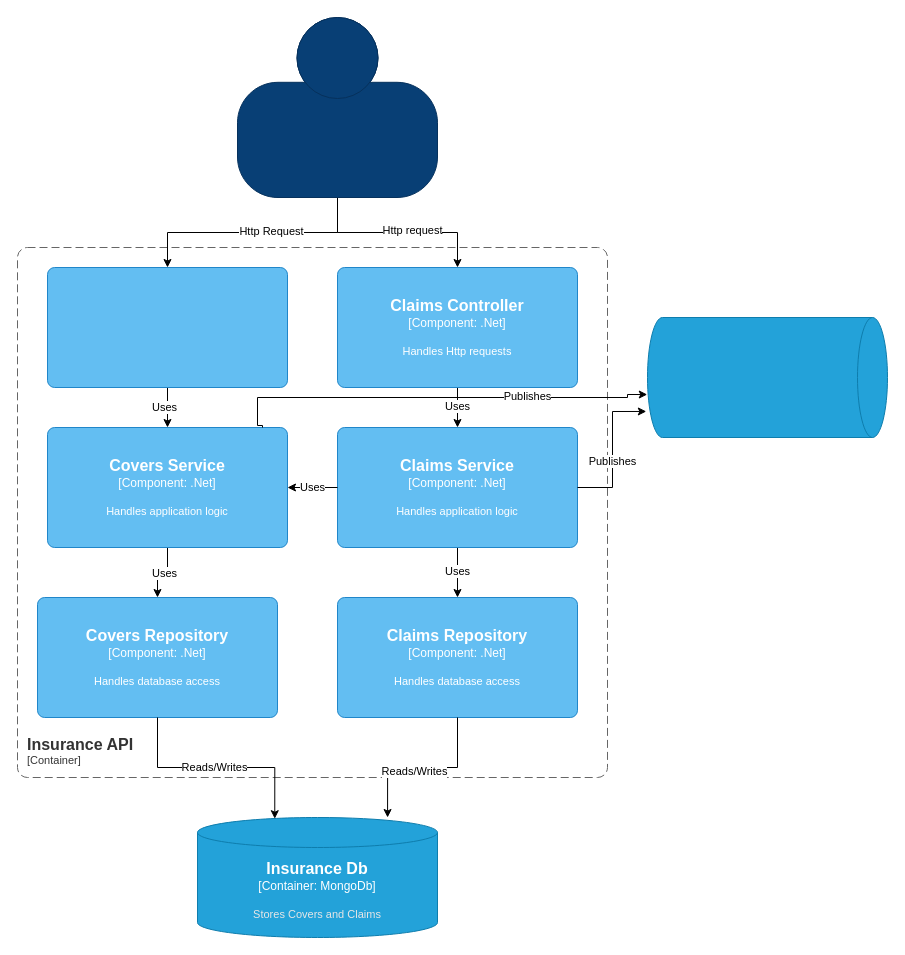
The diagram is 905 pixels wide and 955 high, and some of its shapes have lost their labels. The centre of each missing label's shape, as x and y in pixels:
"AddAuditLog Queue [Container: RabbitMQ] Queue with AddAuditLog messages" goes at (767,377).
"Client [System System]" goes at (337,107).
"Covers Controller [Component: .Net] Handles Http requests" goes at (167,327).
